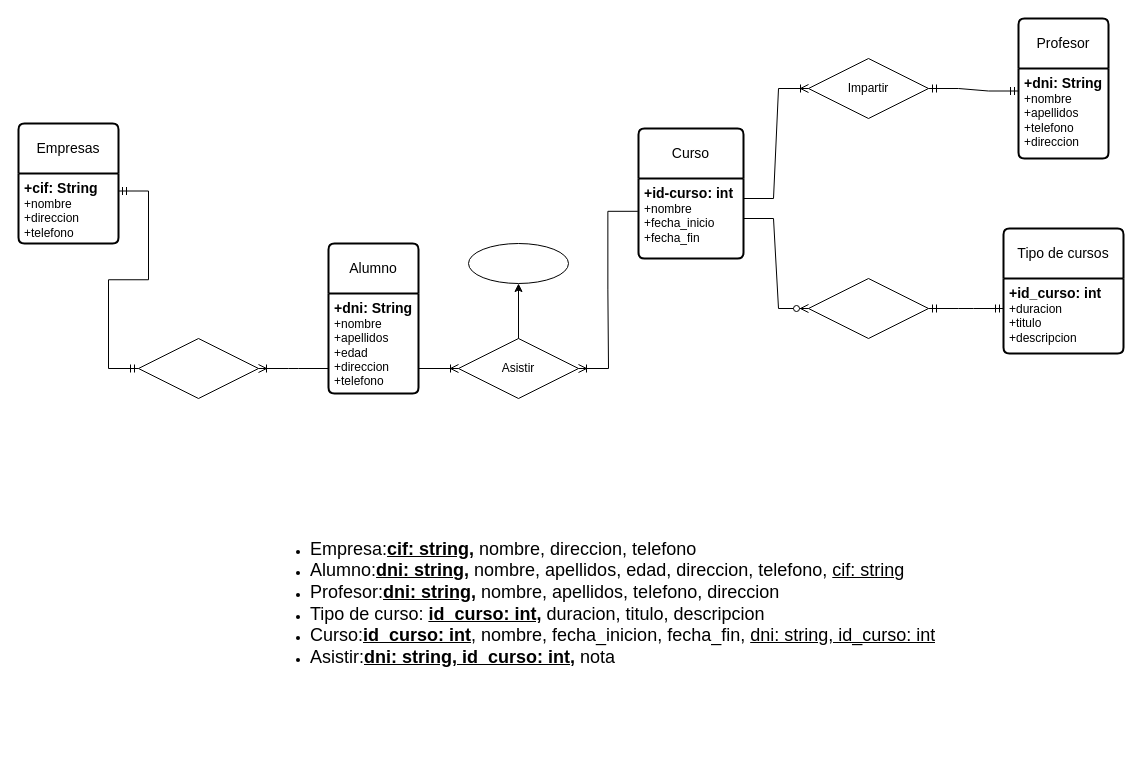
This 1141x765 diagram has some shape labels left out. The centre of each missing label's shape, as x and y in pixels:
"nota" belongs at point (518, 263).
"Pertenecer" belongs at point (868, 308).
"Trabajar" belongs at point (198, 368).
